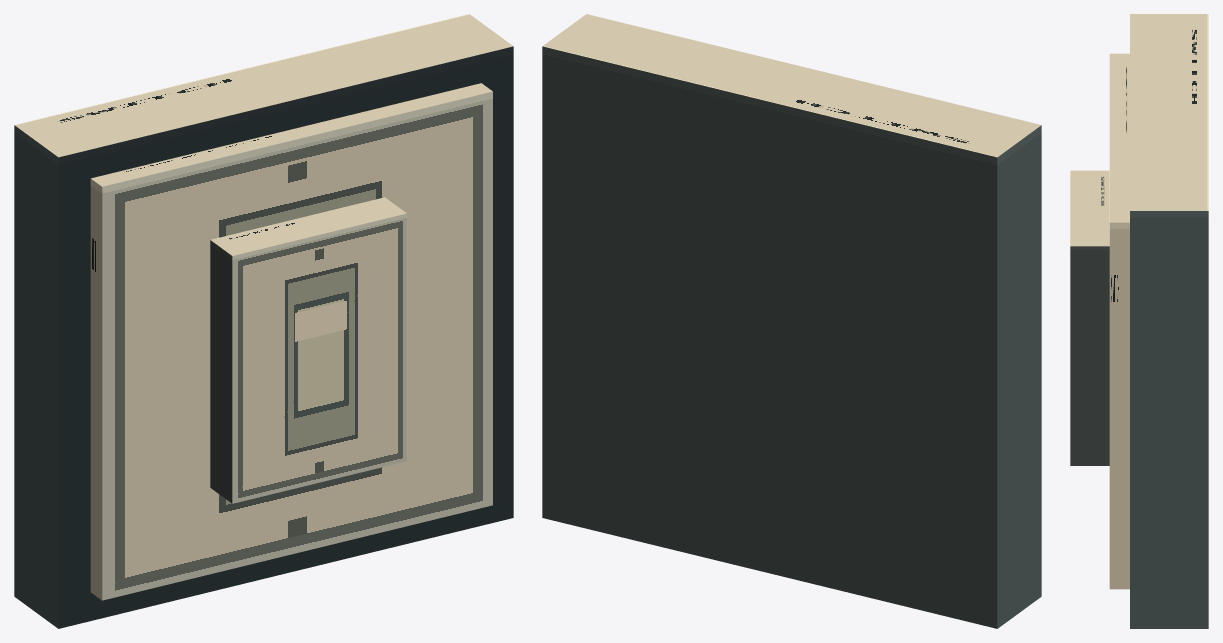
Rendered from interruptor_pared.glb.
The picture shows the model from 3 angles, left to right: view 1: azimuth 30°, elevation 25°; view 2: azimuth 150°, elevation 25°; view 3: azimuth 270°, elevation 25°; orthographic projection. The views are drawn at different scales.
Parts seen in each view (by area): view 1: ELECTRICO; view 2: ELECTRICO; view 3: ELECTRICO.
Boxes of the visible parts, x1=… form: ELECTRICO: x1=14, y1=14, x2=513, y2=628; ELECTRICO: x1=542, y1=14, x2=1041, y2=628; ELECTRICO: x1=1070, y1=14, x2=1208, y2=628.
Size of the model in its own units: 0.2263 by 0.224 by 0.0671.
Materials: 1 (1 with a texture image).
